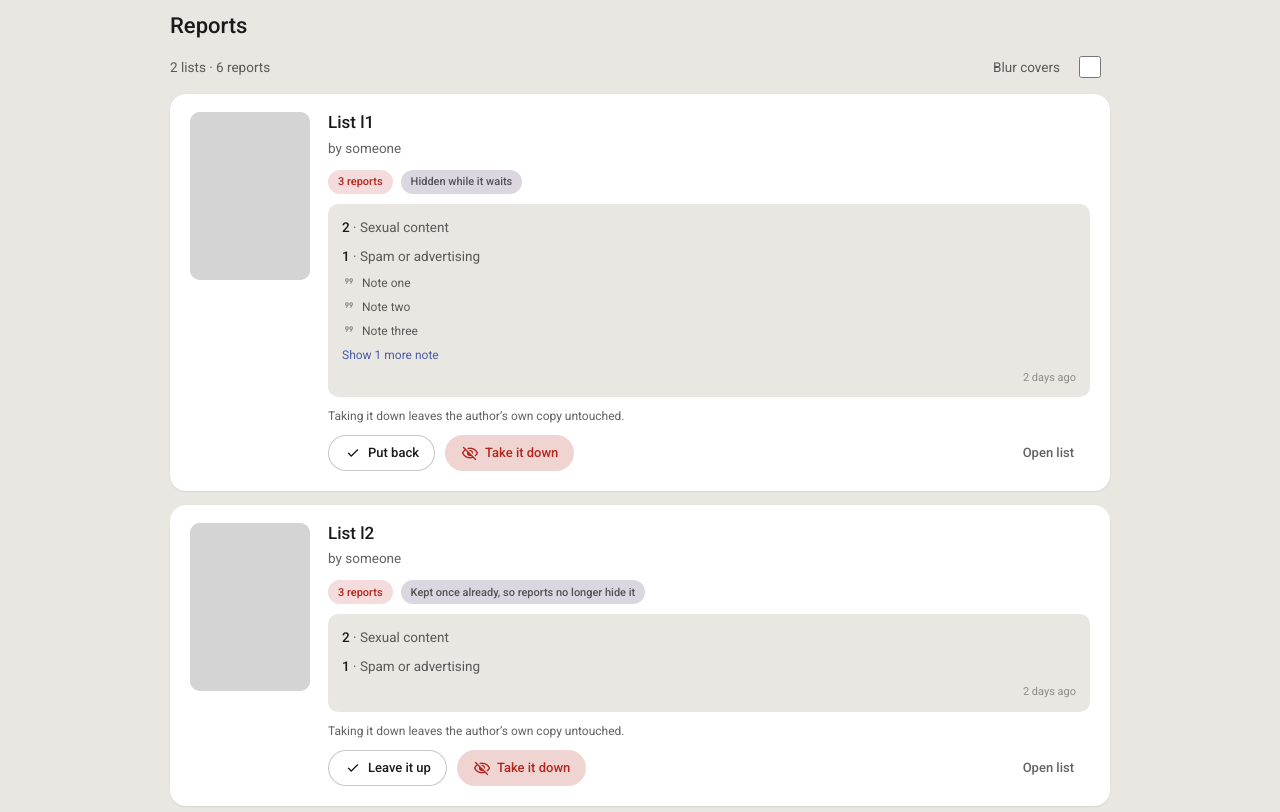
Test: ModerationPage › shows the queue to the moderator: counts, reasons, notes, pills, and a way to the list
Expected: the text "2 lists · 6 reports" is shown, 170,56 -> 270,78
Expected: the number of list items is 2, 170,94 -> 1110,491; 170,505 -> 1110,806
Click the button "Show 1 more note": (390,355) 342,346 -> 439,364
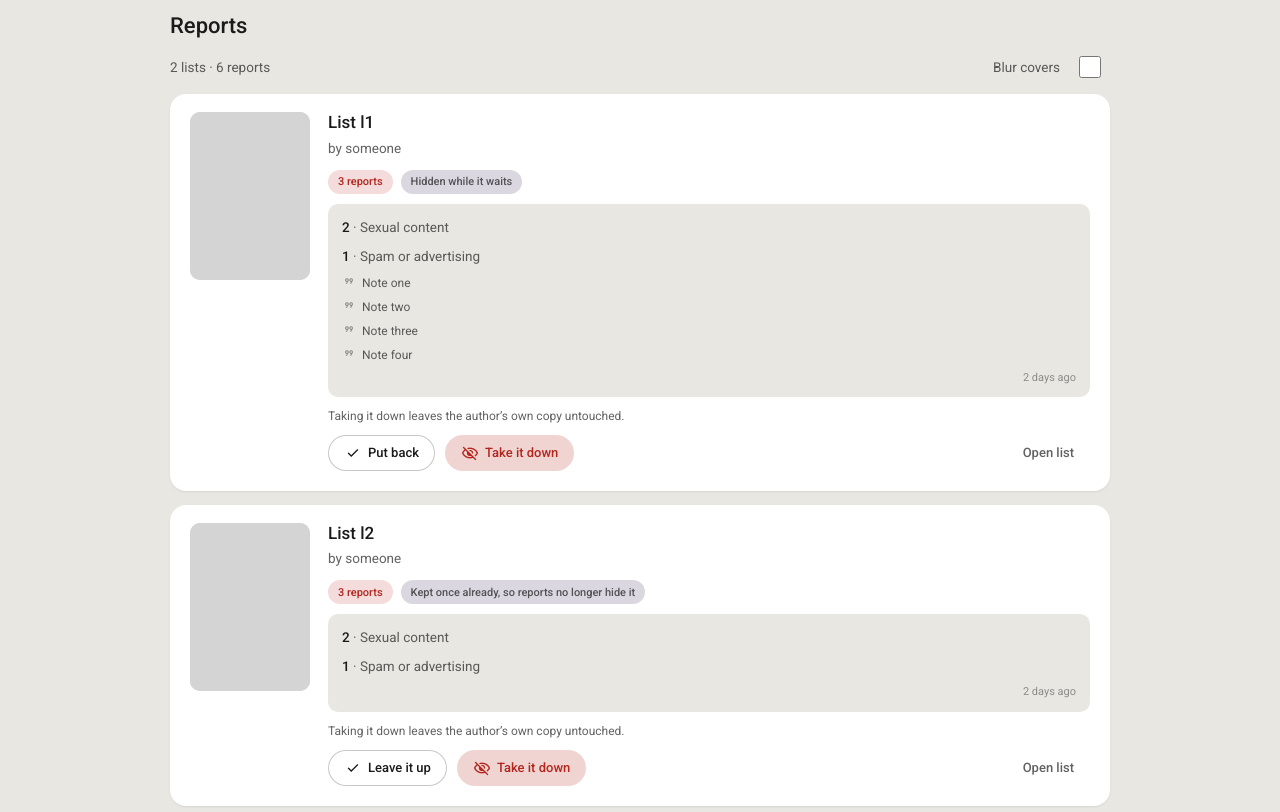
Expected: the list item that starts with "List l1" shows "2 days ago", 1023,371 -> 1076,384
Now the list item that starts with "List l1" shows "Note four", box 362,348 -> 412,362
